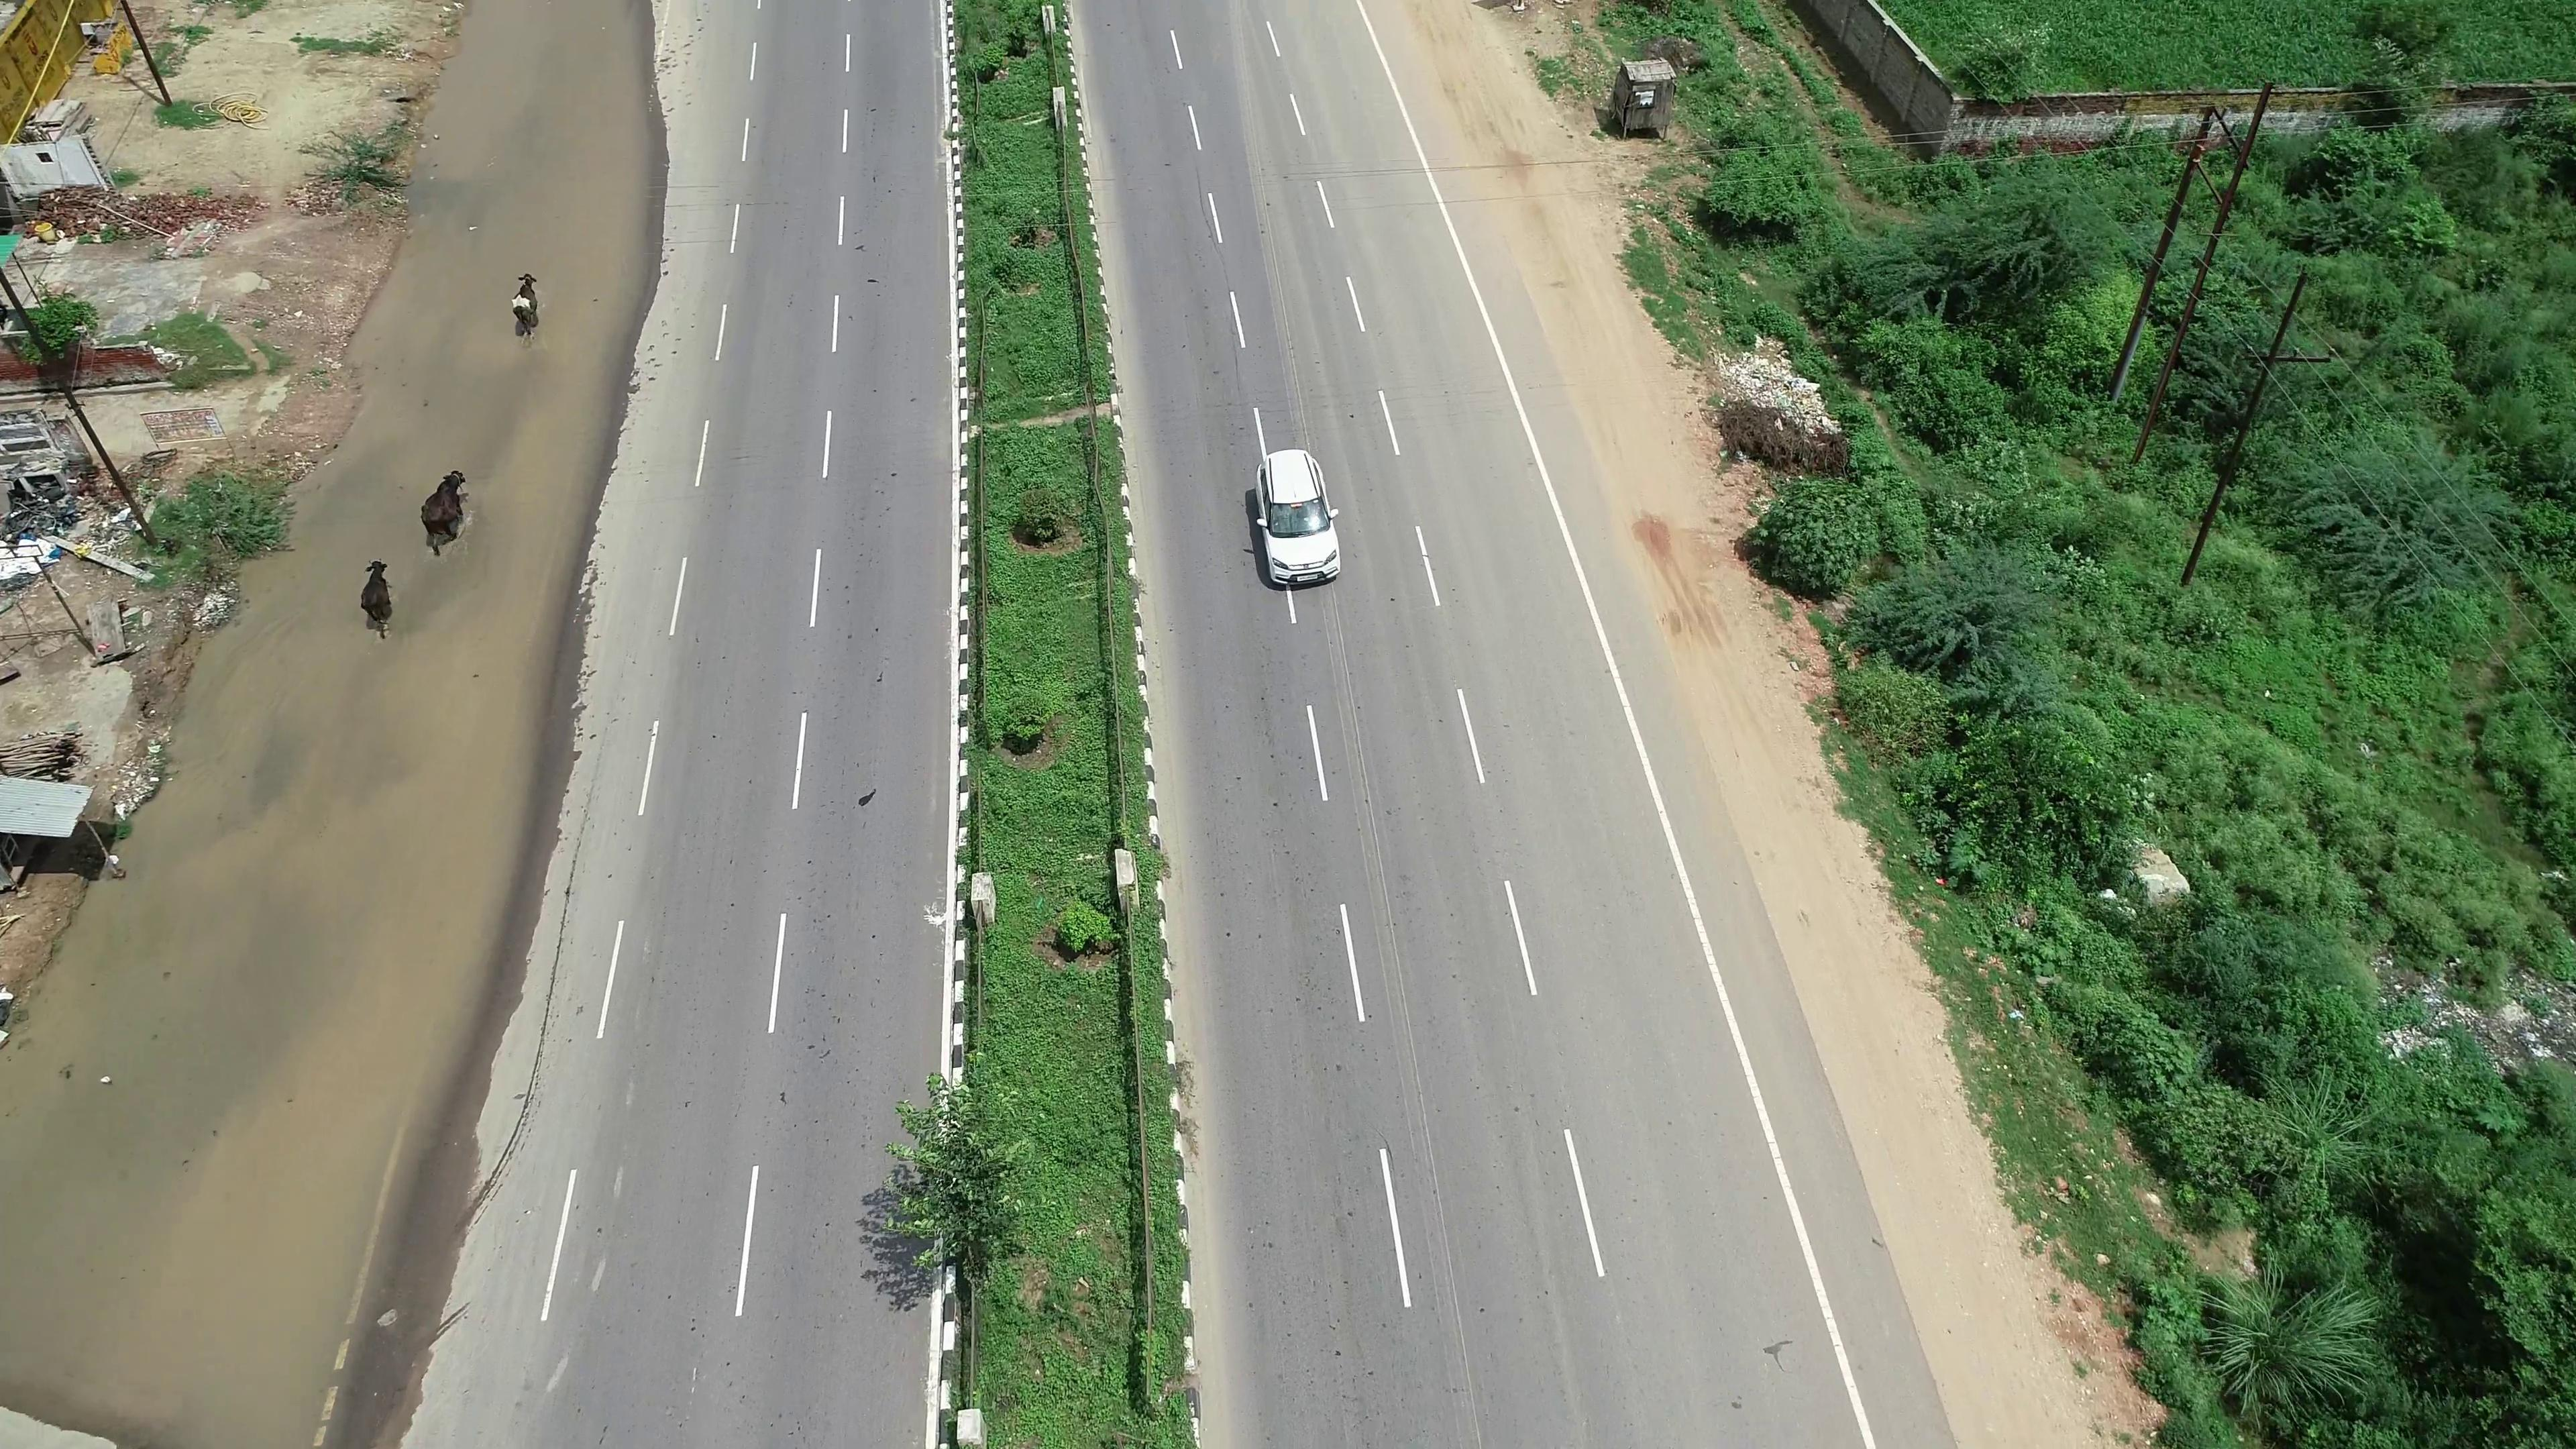Waterlogging: (12, 672, 545, 1341)
